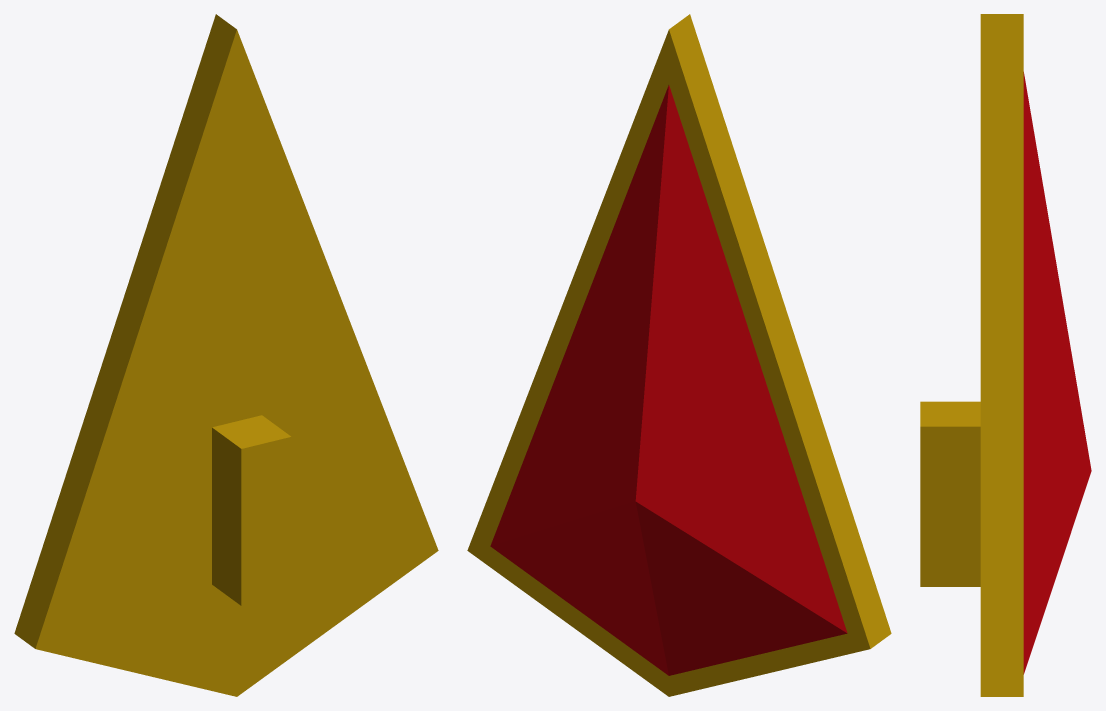
Rendered from mdl_zesty_maple_tri_lg_garnet.gltf.
3 views of the same model, side by side, from view 1: azimuth 30°, elevation 25°; view 2: azimuth 150°, elevation 25°; view 3: azimuth 270°, elevation 25° (orthographic). The views are drawn at different scales.
Parts seen in each view (by area): view 1: mdl_zesty_maple_tri_lg_garnet; view 2: mdl_zesty_maple_tri_lg_garnet; view 3: mdl_zesty_maple_tri_lg_garnet.
Part boxes in pixels (box(x1,y1,x2,y2)): mdl_zesty_maple_tri_lg_garnet: box(14, 14, 438, 696); mdl_zesty_maple_tri_lg_garnet: box(467, 14, 891, 696); mdl_zesty_maple_tri_lg_garnet: box(920, 14, 1091, 696).
Bounding box in the file's own units: 0.1106 × 0.1749 × 0.0398.
